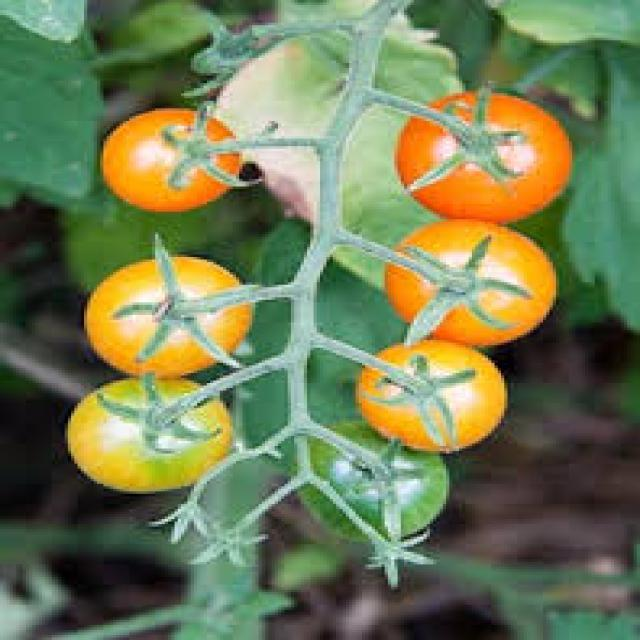level 1: (291, 421, 457, 552)
level 4: (61, 374, 236, 499), (359, 341, 514, 455)
level 5: (395, 86, 581, 222), (380, 217, 562, 348), (84, 246, 258, 380), (97, 104, 246, 217)
